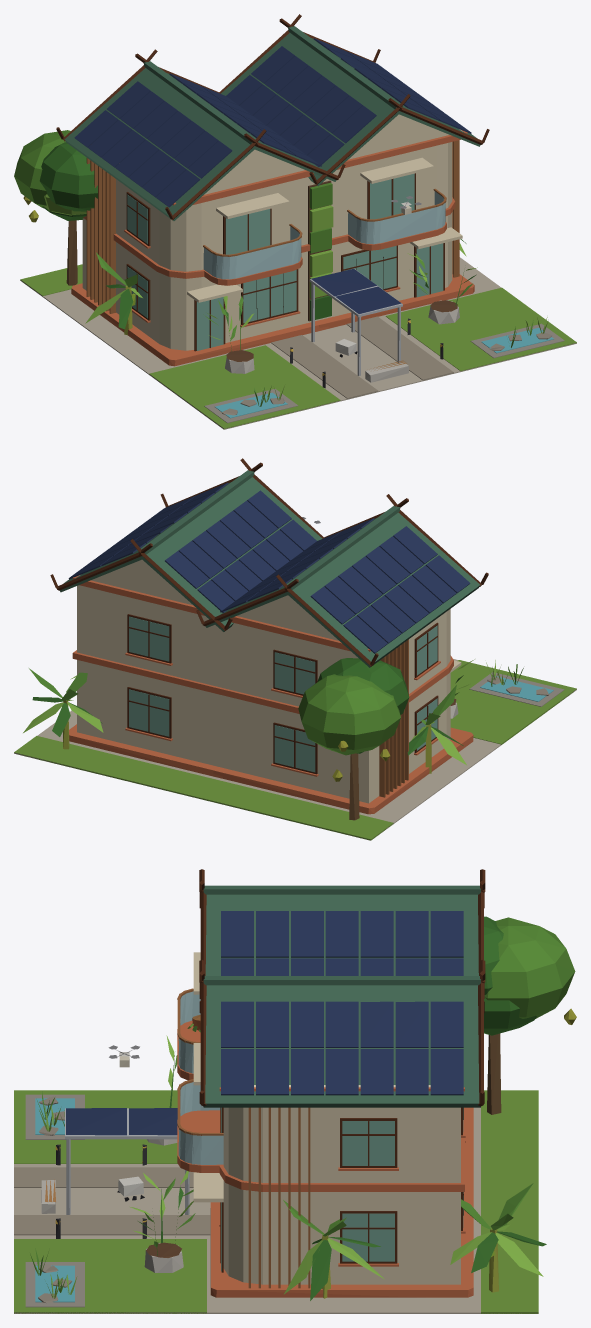
The model's file is home_2.glb.
3 renders of one model, top to bottom at view 1: azimuth 30°, elevation 25°; view 2: azimuth 150°, elevation 25°; view 3: azimuth 270°, elevation 25°, orthographic. The views are drawn at different scales.
Visible parts, largest first — view 1: body; view 2: body; view 3: body.
Part boxes in pixels (box(x1,y1,x2,y2)): body: box(14, 14, 576, 429); body: box(14, 458, 576, 840); body: box(14, 869, 576, 1313).
Size of the model in its own units: 16.93 by 9.5 by 17.06.
